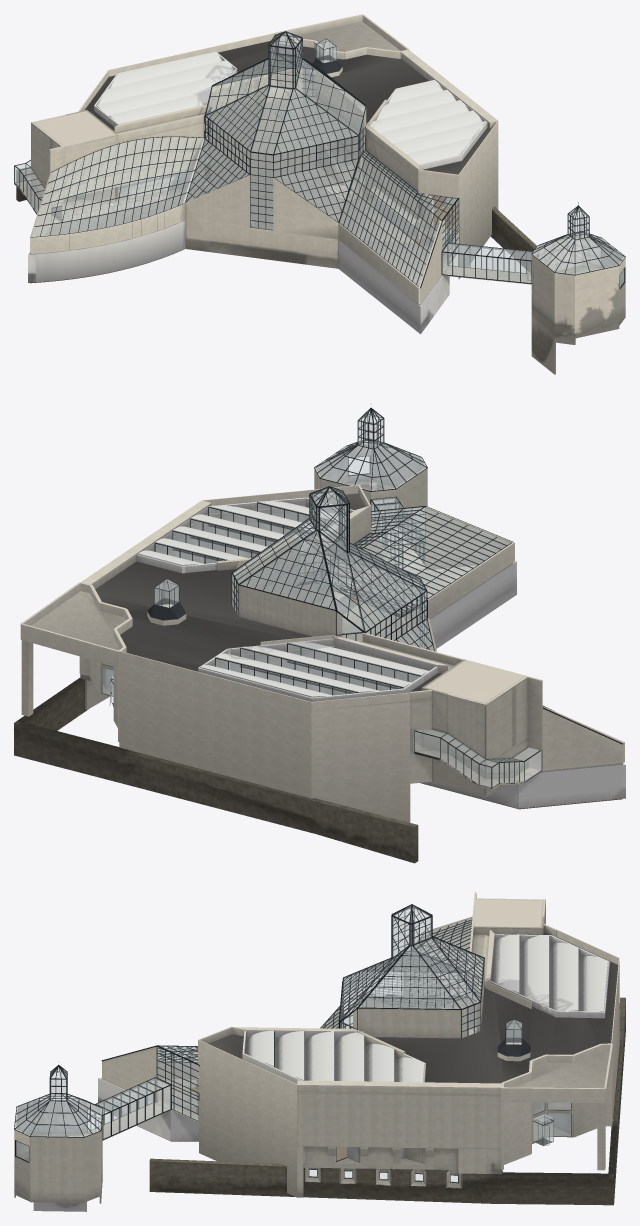
Rendered from building.glb.
3 renders of one model, top to bottom at view 1: azimuth 30°, elevation 25°; view 2: azimuth 150°, elevation 25°; view 3: azimuth 270°, elevation 25°, orthographic. The views are drawn at different scales.
Parts seen in each view (by area): view 1: ENT-01-L00_GLASS, R04_RECESS_JAMB_FOOT, P05_FRONT_0, R24_SHELL_E_00, P10_MAIN_ROOF_FACE_0_GRID_0001, P05_FLOOR_L00_GH, R37_GH_EAST_PORTAL_METAL_HEAD, R99_W_GROUND_GALLERY_ENTRY_WALL, P05_MAIN_ROOF_DECK, R17_PORTAL_HEAD, R42_SHADE_00_00, R111_W_GALLERY_APPROACH_SOFFIT (+12 smaller); view 2: P05_FRONT_0, ENT-01-L00_GLASS, R04_RECESS_JAMB_FOOT, R99_W_GROUND_GALLERY_ENTRY_WALL, R35_WALL_51946353_00_0, P05_MAIN_ROOF_DECK, P10_MAIN_ROOF_FACE_0_GRID_0001, R24_SHELL_E_00, R37_GH_EAST_PORTAL_METAL_HEAD, R42_SHADE_00_00, P07_CANOPY_SLAB_ENVELOPE, R111_W_GALLERY_APPROACH_SOFFIT (+5 smaller); view 3: R04_RECESS_JAMB_FOOT, P05_FRONT_0, ENT-01-L00_GLASS, R35_WALL_51946353_00_0, R24_SHELL_E_00, P05_MAIN_ROOF_DECK, R99_W_GROUND_GALLERY_ENTRY_WALL, P10_MAIN_ROOF_FACE_0_GRID_0001, R37_GH_EAST_PORTAL_METAL_HEAD, P07_CANOPY_SLAB_ENVELOPE, R42_SHADE_00_00, R111_W_GALLERY_APPROACH_SOFFIT (+5 smaller).
Boxes of the visible parts, x1,y1,x2,y2 form: ENT-01-L00_GLASS: (14,32,624,287); R04_RECESS_JAMB_FOOT: (31,50,625,374); P05_FRONT_0: (30,32,625,321); R24_SHELL_E_00: (96,51,486,243); P10_MAIN_ROOF_FACE_0_GRID_0001: (30,31,625,283); P05_FLOOR_L00_GH: (30,112,531,304); R37_GH_EAST_PORTAL_METAL_HEAD: (31,33,601,288); R99_W_GROUND_GALLERY_ENTRY_WALL: (28,51,623,334); P05_MAIN_ROOF_DECK: (85,41,491,176); R17_PORTAL_HEAD: (36,68,538,282); R42_SHADE_00_00: (187,55,355,200); R111_W_GALLERY_APPROACH_SOFFIT: (31,96,418,227); P05_FRONT_0: (21,485,624,822); ENT-01-L00_GLASS: (102,410,541,787); R04_RECESS_JAMB_FOOT: (80,468,542,795); R99_W_GROUND_GALLERY_ENTRY_WALL: (103,444,625,808); R35_WALL_51946353_00_0: (14,677,418,863); P05_MAIN_ROOF_DECK: (95,493,442,711); P10_MAIN_ROOF_FACE_0_GRID_0001: (154,408,622,744); R24_SHELL_E_00: (138,501,619,772); R37_GH_EAST_PORTAL_METAL_HEAD: (155,408,512,693); R42_SHADE_00_00: (241,525,430,648); P07_CANOPY_SLAB_ENVELOPE: (20,582,125,667); R111_W_GALLERY_APPROACH_SOFFIT: (315,566,527,747); R04_RECESS_JAMB_FOOT: (14,894,556,1203); P05_FRONT_0: (14,916,619,1201); ENT-01-L00_GLASS: (15,906,570,1182); R35_WALL_51946353_00_0: (149,997,625,1205); R24_SHELL_E_00: (245,934,607,1082); P05_MAIN_ROOF_DECK: (199,932,618,1095); R99_W_GROUND_GALLERY_ENTRY_WALL: (16,934,609,1211); P10_MAIN_ROOF_FACE_0_GRID_0001: (14,904,484,1158); R37_GH_EAST_PORTAL_METAL_HEAD: (37,906,578,1115); P07_CANOPY_SLAB_ENVELOPE: (502,1044,612,1102); R42_SHADE_00_00: (342,945,483,1015); R111_W_GALLERY_APPROACH_SOFFIT: (468,899,545,1031).
Bounding box in the file's own units: 81.08 × 43.8 × 94.58.
66 materials, 24 textured.
